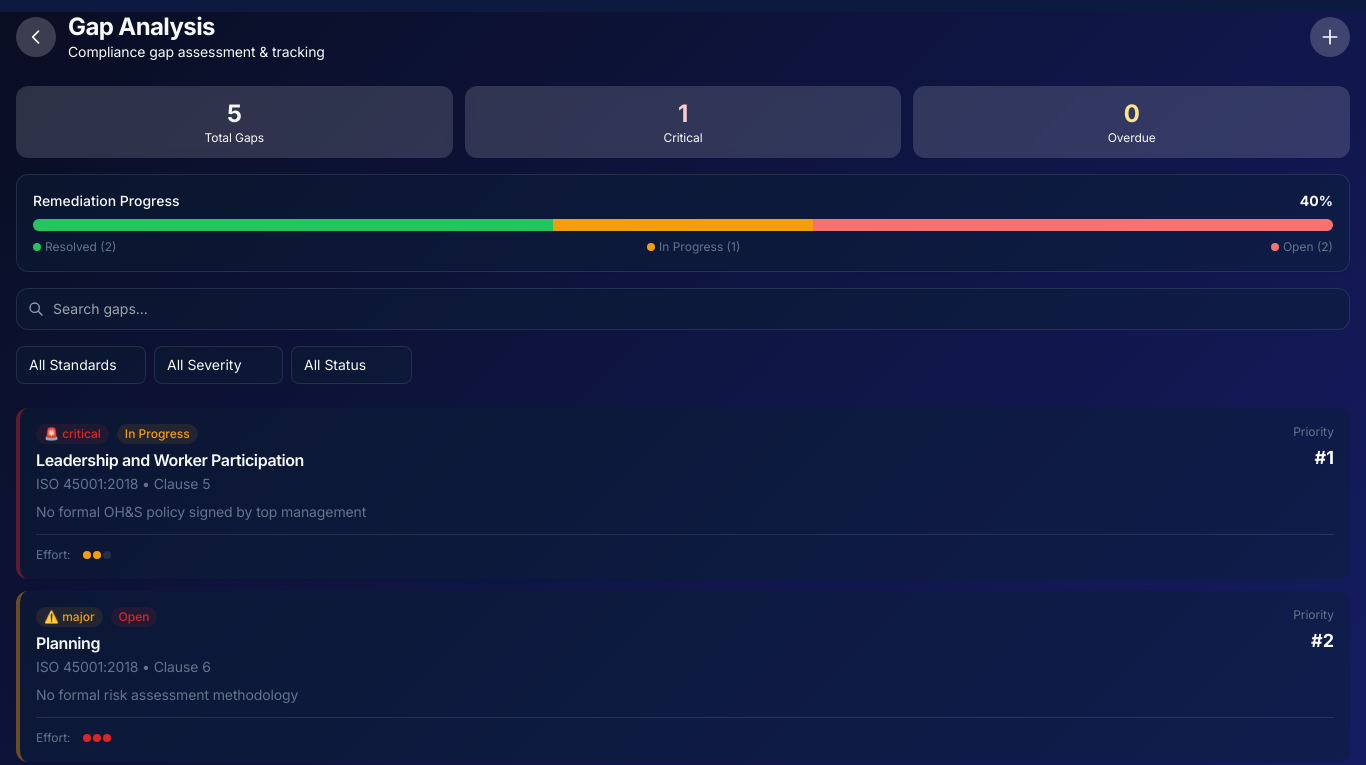
Test: ComplianceGapAnalysis › gap item rendering › clicking gap expands details showing Requirement section
Step 1. Click the button that starts with "critical" → coordinates (685, 494), box [20,408,1350,579]
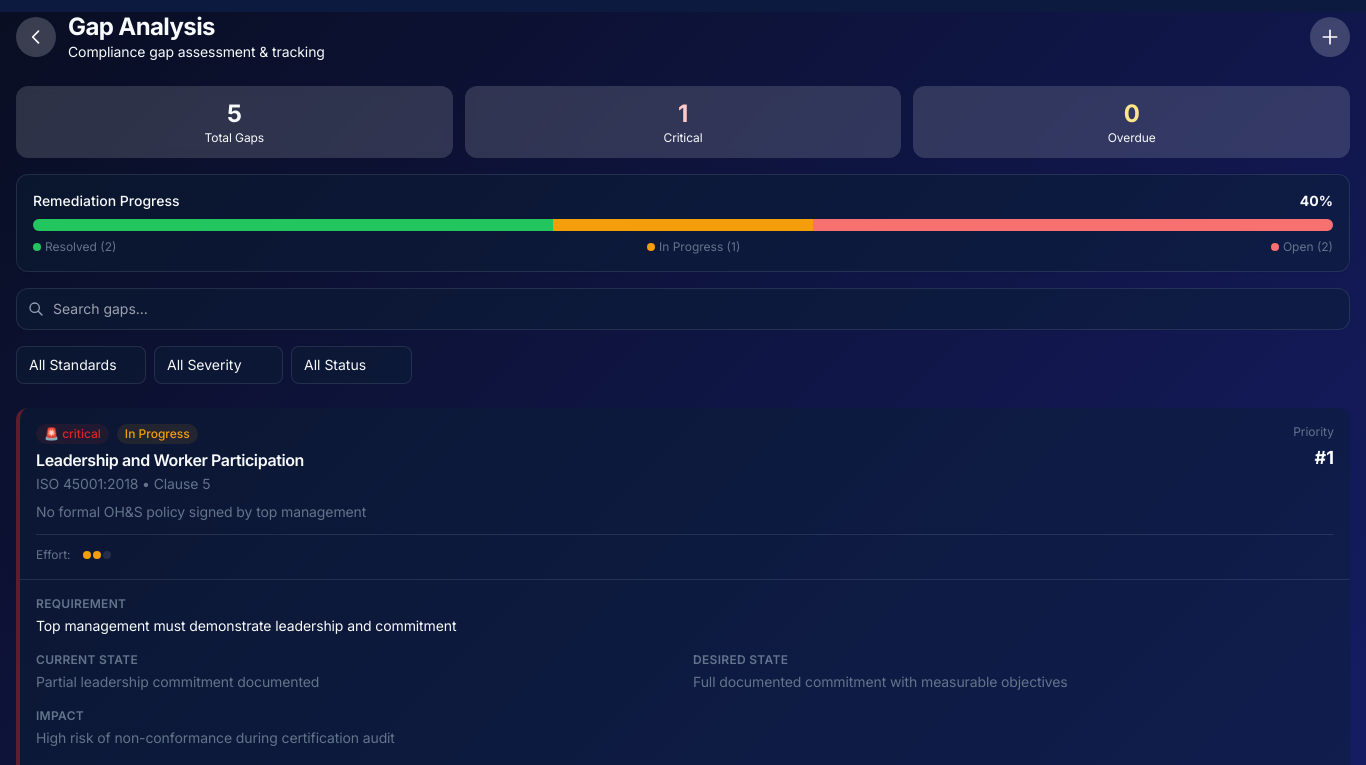
Expected: the heading "Requirement" is shown, [36,596,126,611]
